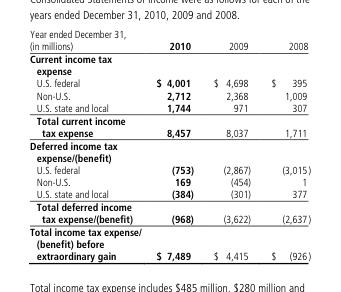table: (28, 29, 310, 261)
table column: (28, 29, 148, 261), (202, 29, 260, 261), (148, 29, 202, 261), (260, 29, 310, 261)
table column header: (28, 29, 310, 52)
table projected row header: (28, 52, 310, 77), (28, 139, 310, 163)
table row: (28, 225, 310, 261), (28, 52, 310, 77), (28, 114, 310, 139), (28, 200, 310, 225), (28, 139, 310, 163), (28, 29, 310, 52), (28, 101, 310, 114), (28, 163, 310, 176), (28, 77, 310, 89), (28, 89, 310, 101), (28, 176, 310, 188), (28, 188, 310, 200)
